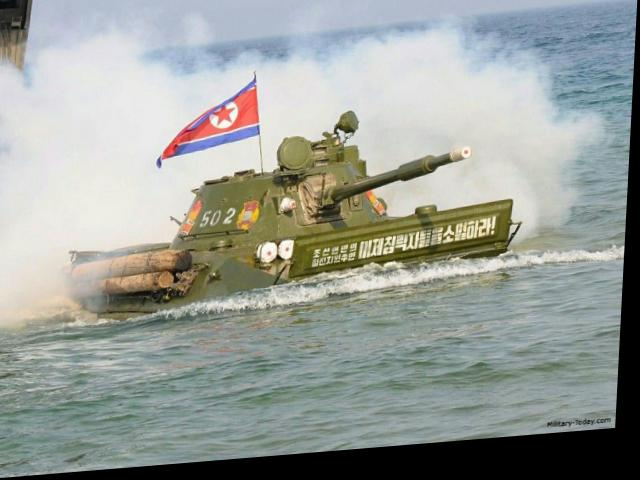tank: (84, 138, 535, 341)
